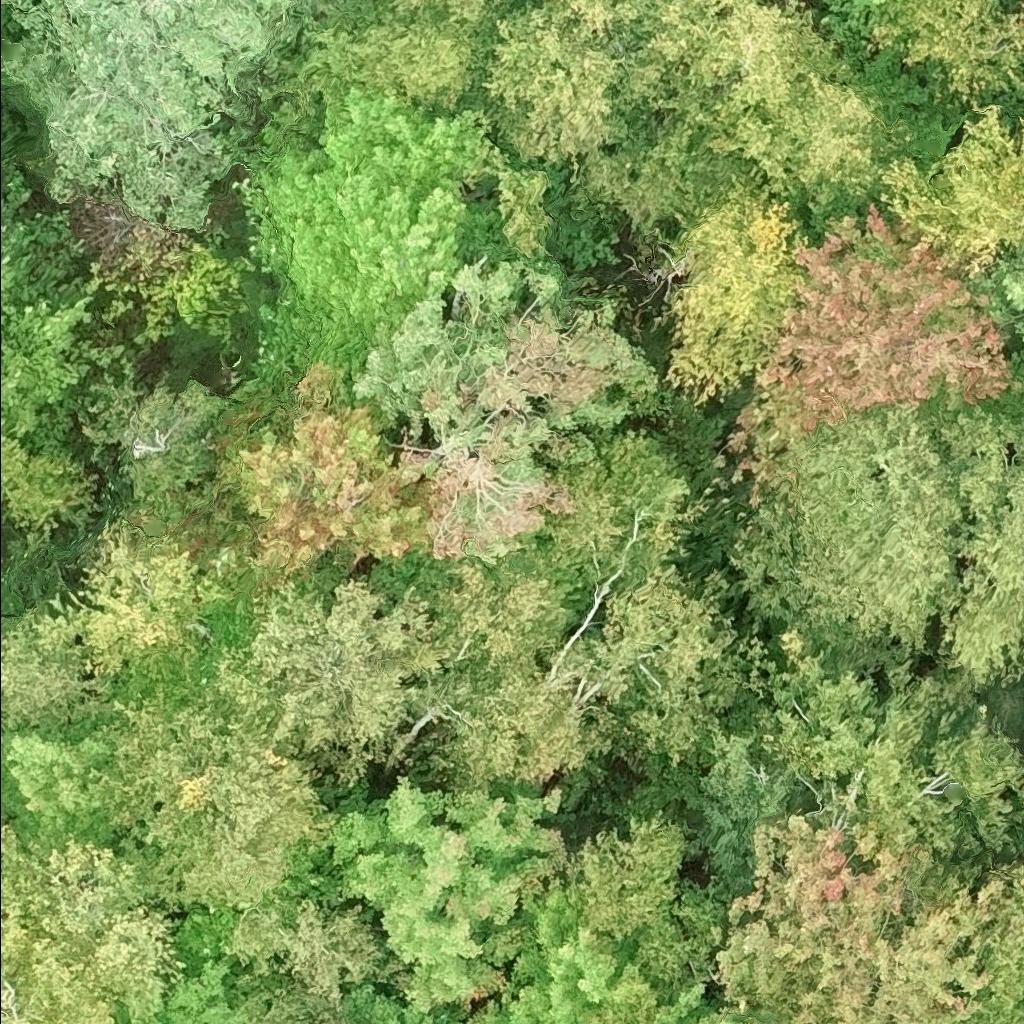crown: (352, 248, 661, 580), (726, 198, 1022, 512), (0, 0, 372, 231), (725, 388, 1023, 674), (237, 82, 501, 404), (760, 621, 1023, 903), (710, 812, 1023, 1023), (319, 771, 563, 1014), (89, 676, 334, 911), (196, 571, 456, 789), (209, 361, 433, 593), (402, 555, 610, 792), (555, 561, 746, 770), (554, 807, 737, 1023), (703, 60, 912, 243), (0, 826, 188, 1023), (661, 164, 806, 409), (509, 418, 693, 597), (74, 517, 255, 690), (624, 0, 838, 130), (876, 96, 1023, 280), (483, 0, 640, 161), (227, 888, 403, 1023), (468, 884, 635, 1023), (943, 434, 1023, 695), (0, 244, 101, 438), (78, 376, 226, 501), (338, 1, 492, 119), (846, 0, 1023, 100), (0, 716, 114, 852), (0, 581, 105, 726), (970, 238, 1023, 388), (541, 0, 651, 43), (366, 0, 524, 28), (977, 940, 1023, 1023), (651, 983, 705, 1023), (0, 980, 33, 1023), (687, 1009, 758, 1023), (821, 0, 884, 13), (1015, 859, 1023, 911), (0, 828, 1, 831)
